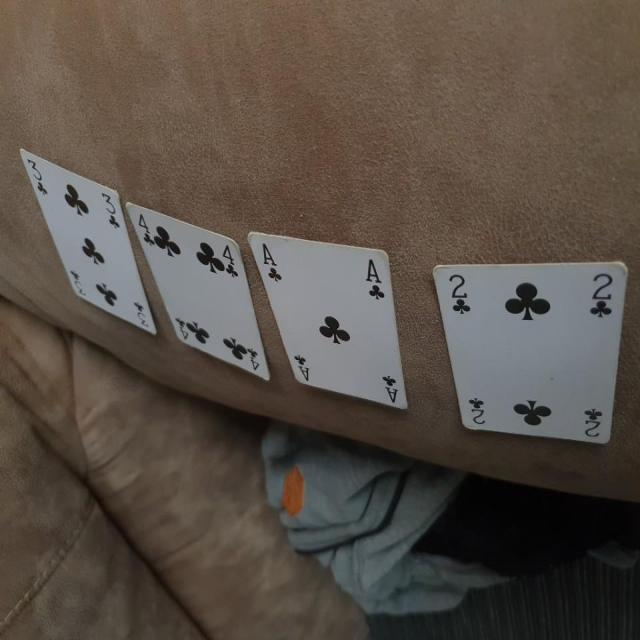2 Trefoils: (432, 253, 629, 447)
3 Trefoils: (18, 146, 159, 338)
4 Trefoils: (124, 196, 273, 382)
A Trefoils: (245, 228, 410, 410)
